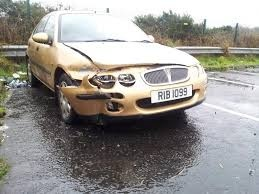Broken-glass: (96, 74, 116, 89), (118, 74, 135, 87)
Smashed: (58, 65, 144, 121)
